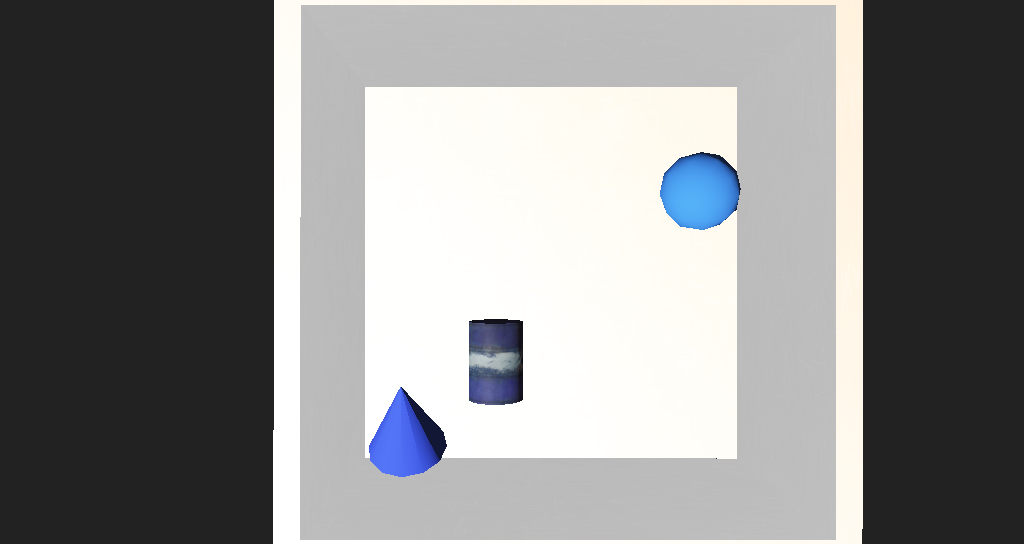cone: (441, 296, 488, 344)
cylinder: (347, 317, 421, 389)
sphere: (596, 203, 657, 246)
